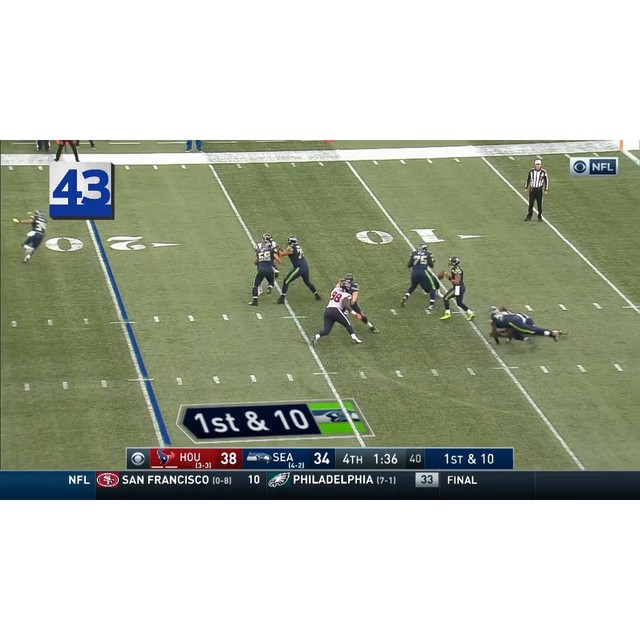american-football-player: (312, 278, 362, 348), (482, 304, 567, 345), (277, 234, 320, 302), (401, 243, 439, 311), (336, 276, 379, 334), (438, 256, 476, 321), (248, 236, 283, 306), (14, 208, 48, 265)
referee: (521, 158, 549, 223)
